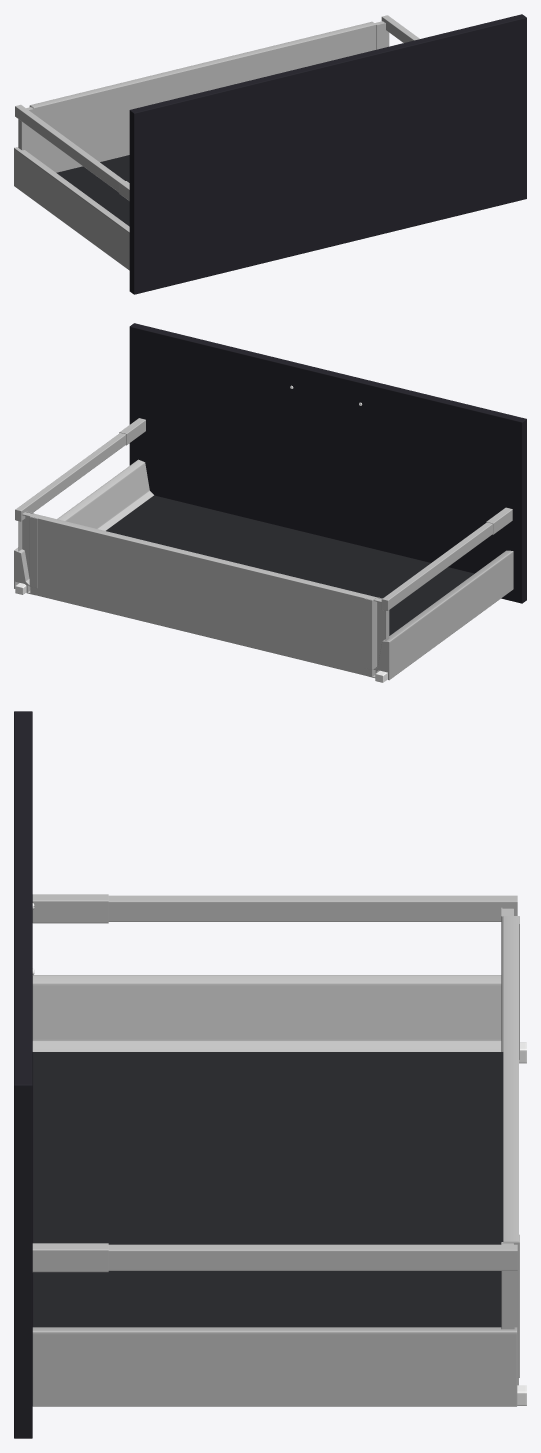
Rendered from Kitchen11Drawer03.obj.
3 renders of one model, top to bottom at view 1: azimuth 30°, elevation 25°; view 2: azimuth 150°, elevation 25°; view 3: azimuth 270°, elevation 25°, orthographic. The views are drawn at different scales.
Visible parts, largest first — view 1: SM_Kitchen_11_Base_Drawer_03_70; view 2: SM_Kitchen_11_Base_Drawer_03_70; view 3: SM_Kitchen_11_Base_Drawer_03_70.
Part boxes in pixels (box(x1,y1,x2,y2)): SM_Kitchen_11_Base_Drawer_03_70: box(14, 14, 526, 294); SM_Kitchen_11_Base_Drawer_03_70: box(14, 323, 526, 682); SM_Kitchen_11_Base_Drawer_03_70: box(14, 711, 526, 1438).
Size of the model in its own units: 89.69 by 39.6 by 51.99.
